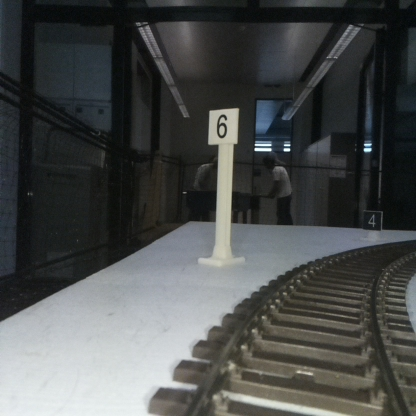black-stop-4: (363, 211, 381, 238)
white-info-6: (209, 109, 237, 264)
